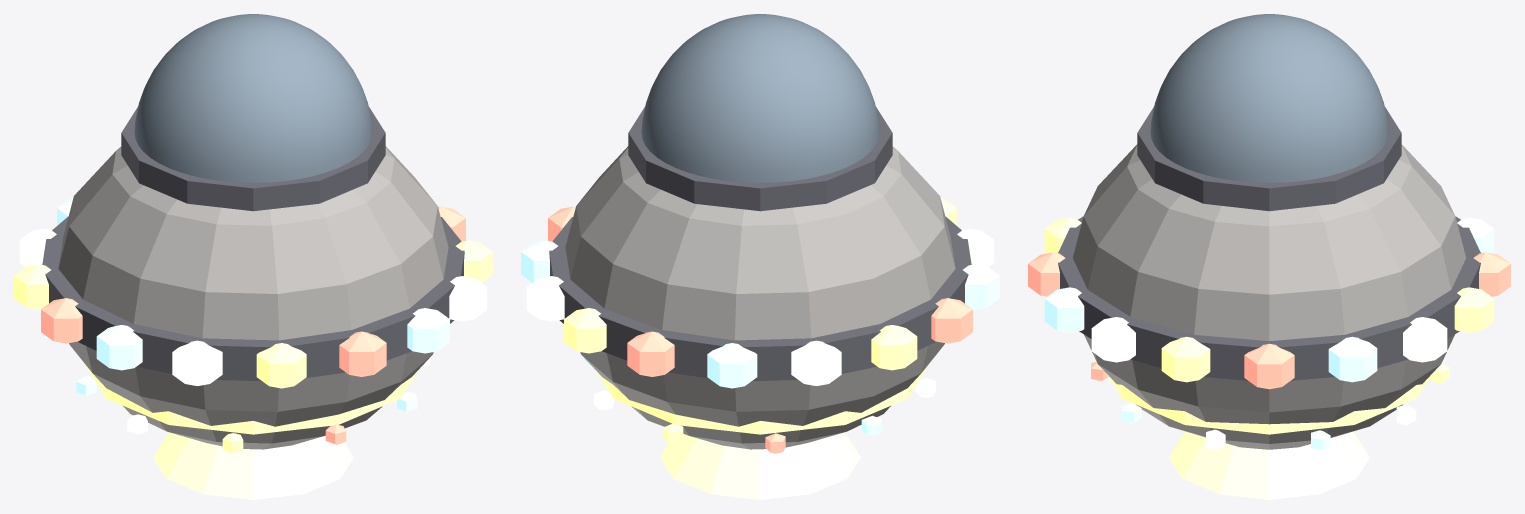
The model's file is orb.glb.
3 views of the same model, side by side, from view 1: azimuth 30°, elevation 25°; view 2: azimuth 150°, elevation 25°; view 3: azimuth 270°, elevation 25° (orthographic).
Parts seen in each view (by area): view 1: orb, dome.001; view 2: orb, dome.001; view 3: orb, dome.001.
Part boxes in pixels (box(x1,y1,x2,y2)): orb: box(14, 106, 492, 499); dome.001: box(134, 14, 372, 182); orb: box(521, 106, 999, 499); dome.001: box(641, 14, 879, 182); orb: box(1028, 106, 1510, 499); dome.001: box(1150, 14, 1388, 182).
Size of the model in its own units: 3.78 by 3.8 by 3.84.
